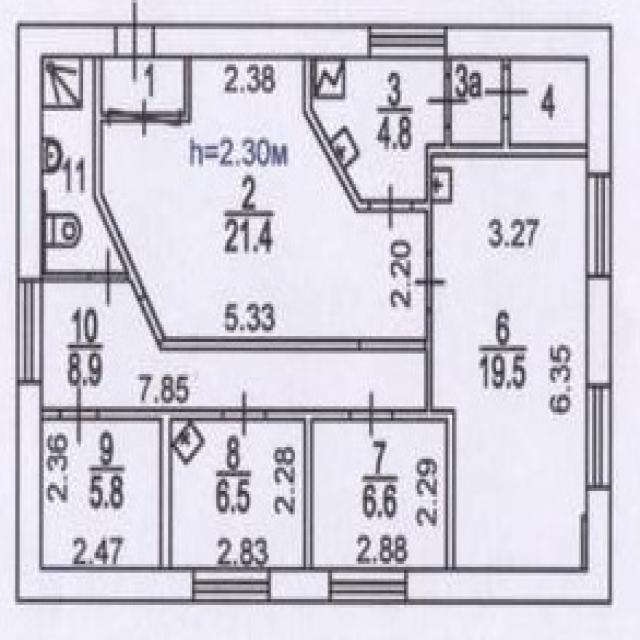Bathrooms: (315, 61, 444, 197), (44, 58, 119, 269)
Corridors: (44, 284, 424, 407), (513, 63, 585, 143), (452, 62, 500, 142), (104, 61, 182, 110)
Doors: (113, 0, 154, 85), (109, 94, 179, 138), (423, 76, 472, 129), (59, 381, 98, 447), (89, 248, 128, 311), (220, 386, 266, 439), (349, 387, 393, 442), (369, 180, 413, 232), (485, 68, 529, 118), (413, 251, 450, 310)
LBwalls: (16, 384, 192, 605), (14, 23, 114, 278), (446, 23, 613, 174), (407, 491, 612, 606), (154, 23, 369, 59), (586, 278, 613, 382), (272, 568, 328, 605)
Offices: (104, 60, 423, 336), (434, 162, 585, 566), (173, 424, 304, 566), (315, 424, 445, 566), (44, 422, 158, 566)
Walls: (93, 58, 457, 567), (414, 118, 587, 255), (98, 405, 220, 573), (265, 405, 349, 569), (301, 60, 369, 217), (180, 60, 193, 126), (43, 269, 89, 283), (40, 406, 60, 422), (499, 56, 511, 69), (444, 60, 452, 77)
Windows: (327, 565, 409, 604), (192, 566, 272, 604), (16, 278, 44, 385), (367, 24, 447, 60), (586, 383, 612, 492), (586, 174, 612, 279)
